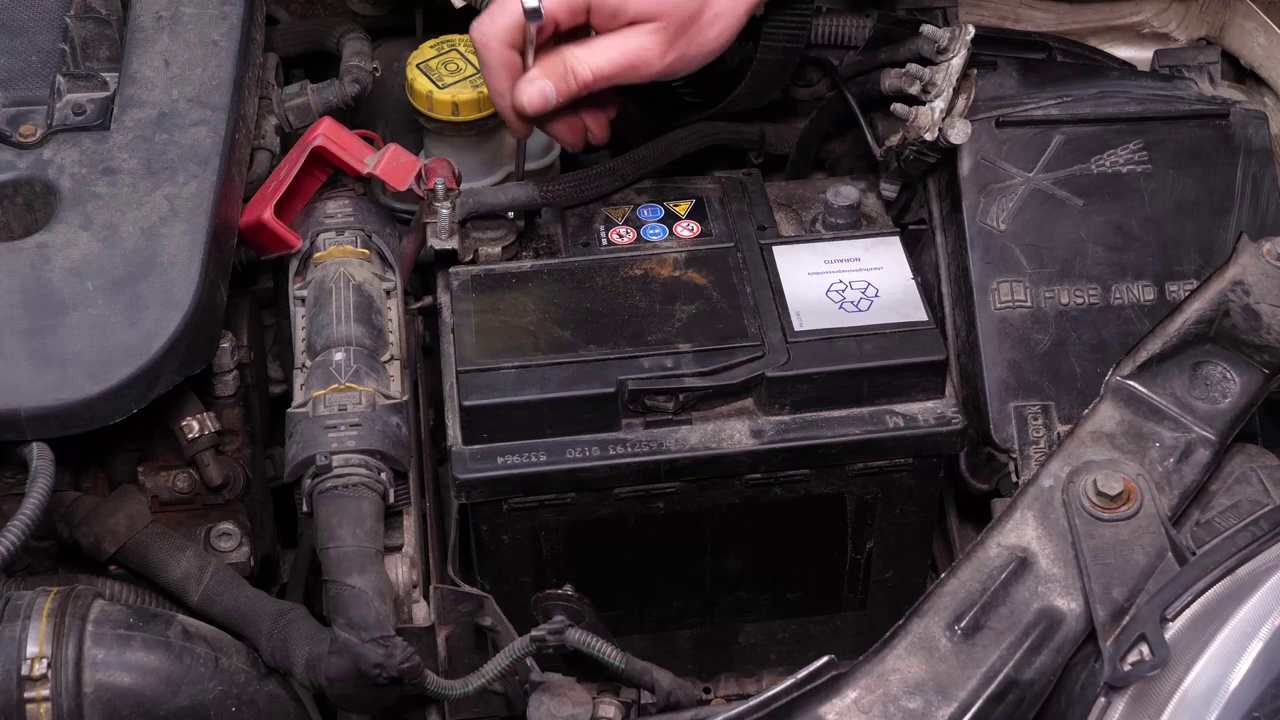battery: (416, 151, 952, 375)
neg_disconnected: (775, 167, 915, 254)
pos_connected: (336, 120, 515, 273)
